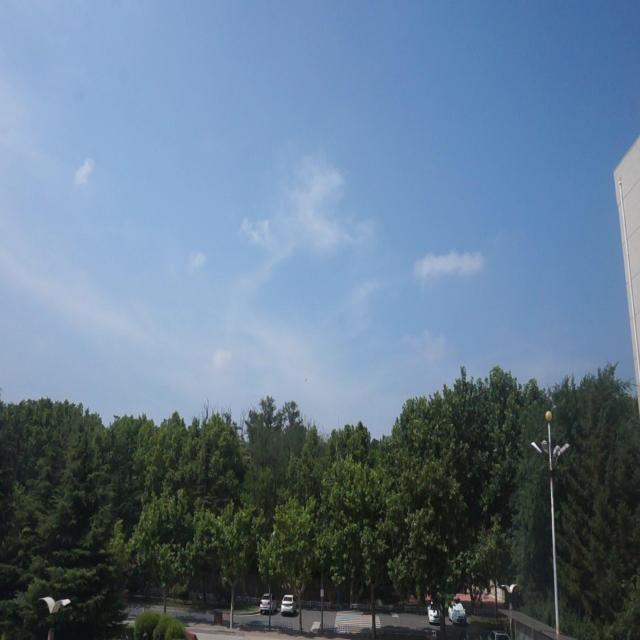drone: (302, 372, 308, 386)
